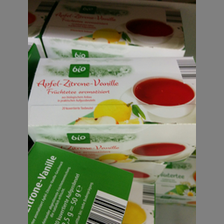tea: (29, 55, 195, 163), (39, 2, 186, 57)
